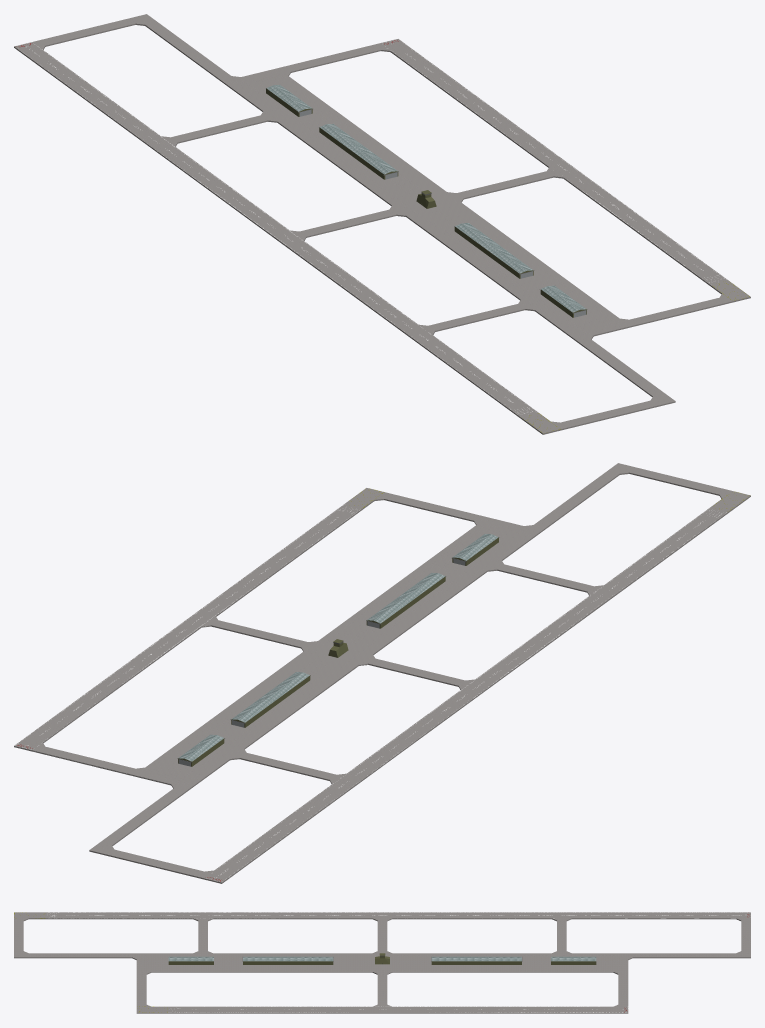
File: airbase.obj
The picture shows the model from 3 angles, top to bottom: view 1: azimuth 30°, elevation 25°; view 2: azimuth 150°, elevation 25°; view 3: azimuth 270°, elevation 25°; orthographic projection. The views are drawn at different scales.
Parts seen in each view (by area): view 1: SketchUp.215_ID943, SketchUp.247_ID1199, SketchUp.246_ID1191, SketchUp.204_ID855, SketchUp.004_ID31, SketchUp.217_ID959, SketchUp.020_ID159, SketchUp.017_ID139; view 2: SketchUp.215_ID943, SketchUp.247_ID1199, SketchUp.246_ID1191, SketchUp.204_ID855, SketchUp.004_ID31, SketchUp.217_ID959, SketchUp.017_ID139, SketchUp.020_ID159; view 3: SketchUp.215_ID943, SketchUp.247_ID1199, SketchUp.246_ID1191, SketchUp.204_ID855, SketchUp.004_ID31, SketchUp.217_ID959, SketchUp.017_ID139, SketchUp.020_ID159, SketchUp.013_ID108, SketchUp.018_ID147, SketchUp.006_ID54, SketchUp.007_ID62 (+6 smaller).
Boxes of the visible parts, x1,y1,x2,y2 form: SketchUp.215_ID943: [33, 14, 731, 428]; SketchUp.247_ID1199: [18, 44, 533, 414]; SketchUp.246_ID1191: [384, 41, 723, 282]; SketchUp.204_ID855: [14, 42, 538, 417]; SketchUp.004_ID31: [14, 46, 750, 434]; SketchUp.217_ID959: [380, 39, 728, 284]; SketchUp.020_ID159: [319, 123, 397, 174]; SketchUp.017_ID139: [455, 223, 532, 273]; SketchUp.215_ID943: [33, 463, 731, 877]; SketchUp.247_ID1199: [208, 510, 723, 879]; SketchUp.246_ID1191: [18, 507, 357, 747]; SketchUp.204_ID855: [204, 507, 728, 882]; SketchUp.004_ID31: [14, 495, 750, 883]; SketchUp.217_ID959: [14, 504, 362, 750]; SketchUp.017_ID139: [367, 572, 445, 623]; SketchUp.020_ID159: [232, 672, 309, 722]; SketchUp.215_ID943: [14, 918, 750, 1006]; SketchUp.247_ID1199: [49, 912, 746, 917]; SketchUp.246_ID1191: [172, 1007, 623, 1012]; SketchUp.204_ID855: [45, 912, 750, 918]; SketchUp.004_ID31: [14, 957, 750, 1013]; SketchUp.217_ID959: [168, 1006, 628, 1012]; SketchUp.017_ID139: [243, 956, 333, 961]; SketchUp.020_ID159: [431, 956, 521, 961]; SketchUp.013_ID108: [243, 961, 333, 964]; SketchUp.018_ID147: [431, 961, 521, 964]; SketchUp.006_ID54: [24, 918, 198, 920]; SketchUp.007_ID62: [566, 918, 740, 920].
Size of the model in its own units: 1182 by 49.38 by 3658.
Materials: 11 (4 with a texture image).
